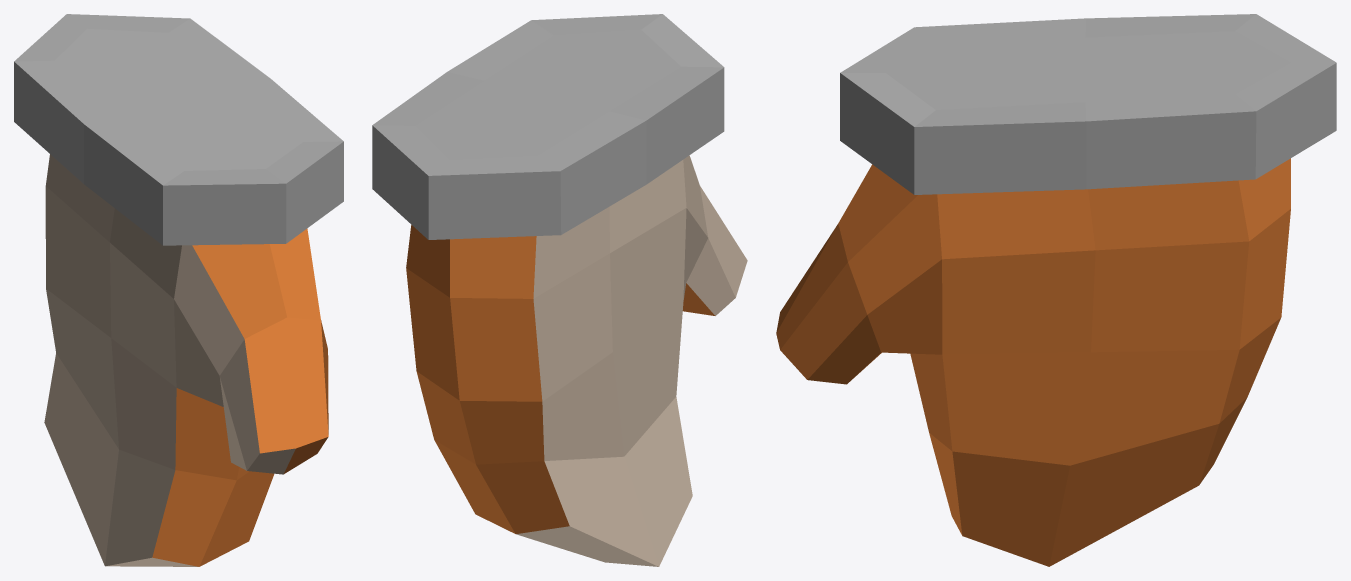
Rendered from HandL.fbx.
3 renders of one model, left to right at view 1: azimuth 30°, elevation 25°; view 2: azimuth 150°, elevation 25°; view 3: azimuth 270°, elevation 25°, orthographic. The views are drawn at different scales.
Parts seen in each view (by area): view 1: Hand_L; view 2: Hand_L; view 3: Hand_L.
Boxes of the visible parts, box(x1,y1,x2,y2) form: Hand_L: box(14, 14, 343, 566); Hand_L: box(372, 14, 747, 566); Hand_L: box(776, 14, 1336, 566).
Size of the model in its own units: 6.27 by 14.33 by 14.42.
